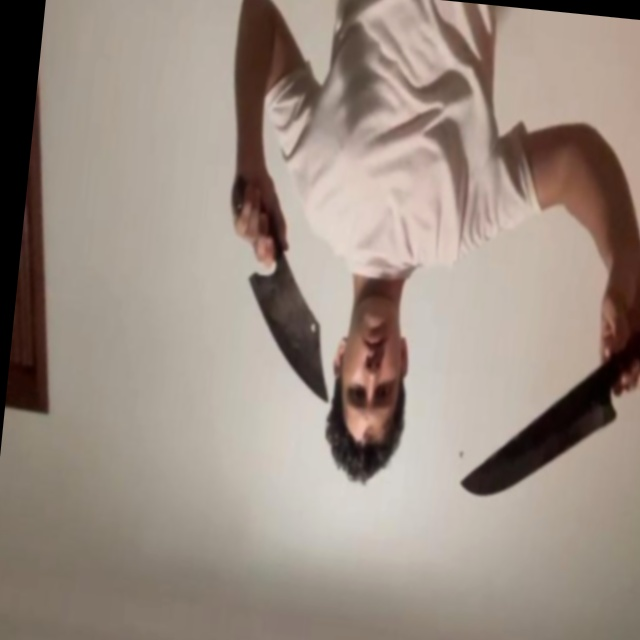Sharp-Object: (459, 387, 618, 509), (241, 269, 340, 402)
